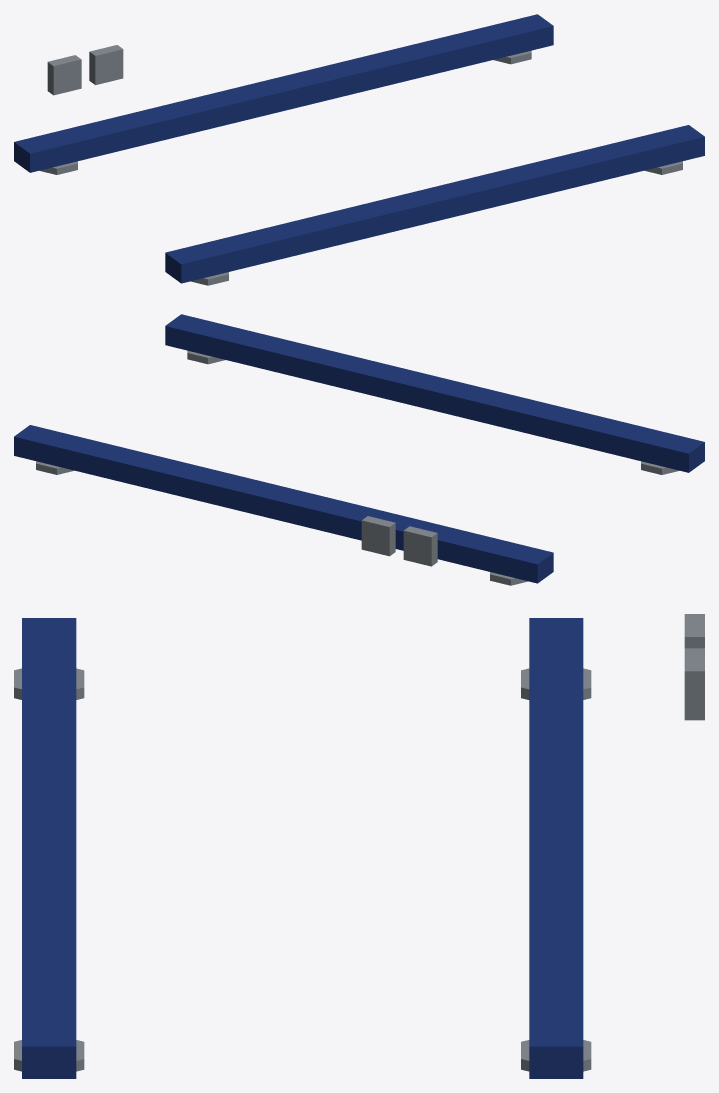
The model's file is mo4_frame.obj.
3 renders of one model, top to bottom at view 1: azimuth 30°, elevation 25°; view 2: azimuth 150°, elevation 25°; view 3: azimuth 270°, elevation 25°, orthographic. The views are drawn at different scales.
Parts seen in each view (by area): view 1: mo4_frame; view 2: mo4_frame; view 3: mo4_frame.
Part boxes in pixels (x1,y1,x2,y2): mo4_frame: (14, 14, 704, 285); mo4_frame: (14, 314, 704, 585); mo4_frame: (14, 614, 704, 1078).
Bounding box in the file's own units: 3 × 0.34 × 2.04.
